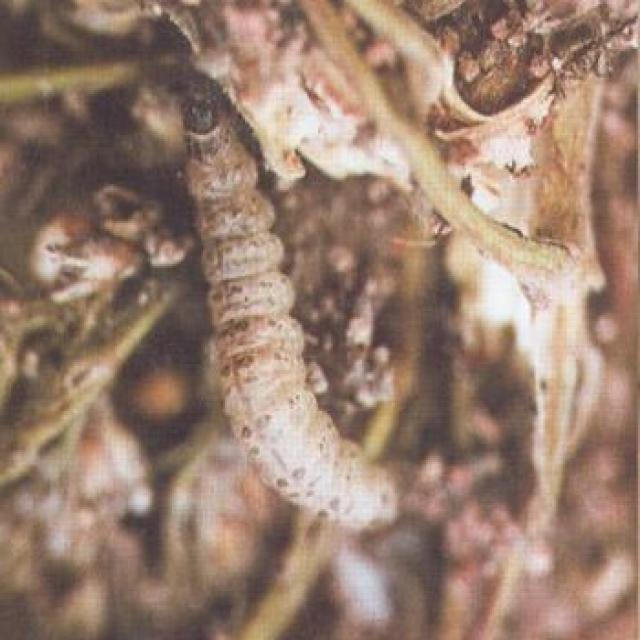peach borer: (128, 78, 408, 534)
